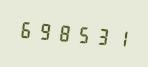eight: (54, 18, 71, 46)
five: (72, 19, 89, 48)
nine: (35, 16, 52, 45)
one: (108, 23, 125, 51)
six: (17, 15, 34, 43)
three: (90, 21, 107, 49)
